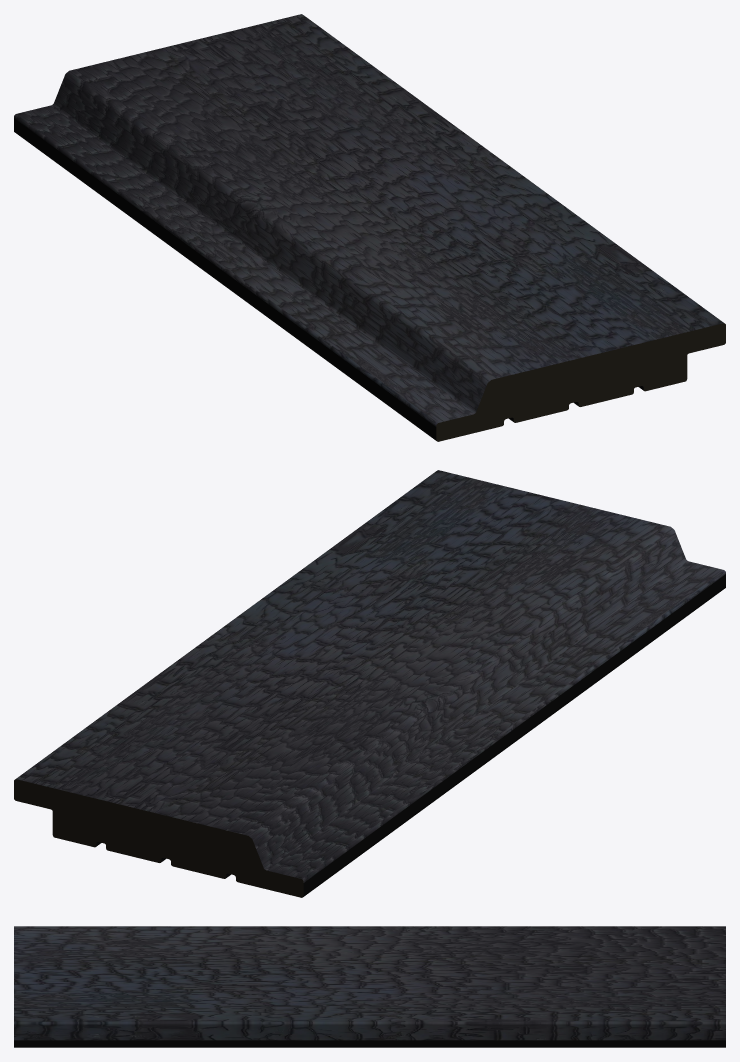
Rendered from larch-facade-half-tongue-carbon.glb.
The picture shows the model from 3 angles, top to bottom: view 1: azimuth 30°, elevation 25°; view 2: azimuth 150°, elevation 25°; view 3: azimuth 270°, elevation 25°; orthographic projection. The views are drawn at different scales.
Parts seen in each view (by area): view 1: Pusė_Špunto; view 2: Pusė_Špunto; view 3: Pusė_Špunto.
Boxes of the visible parts, x1,y1,x2,y2 form: Pusė_Špunto: (14,14,725,441); Pusė_Špunto: (14,470,725,897); Pusė_Špunto: (14,926,725,1047).
Bounding box in the file's own units: 0.0723 × 0.0117 × 0.1826.
Materials: 3 (1 with a texture image).
